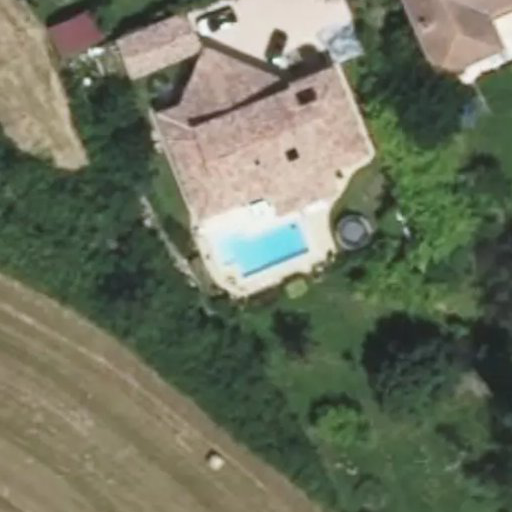pool: (206, 226, 305, 248)
